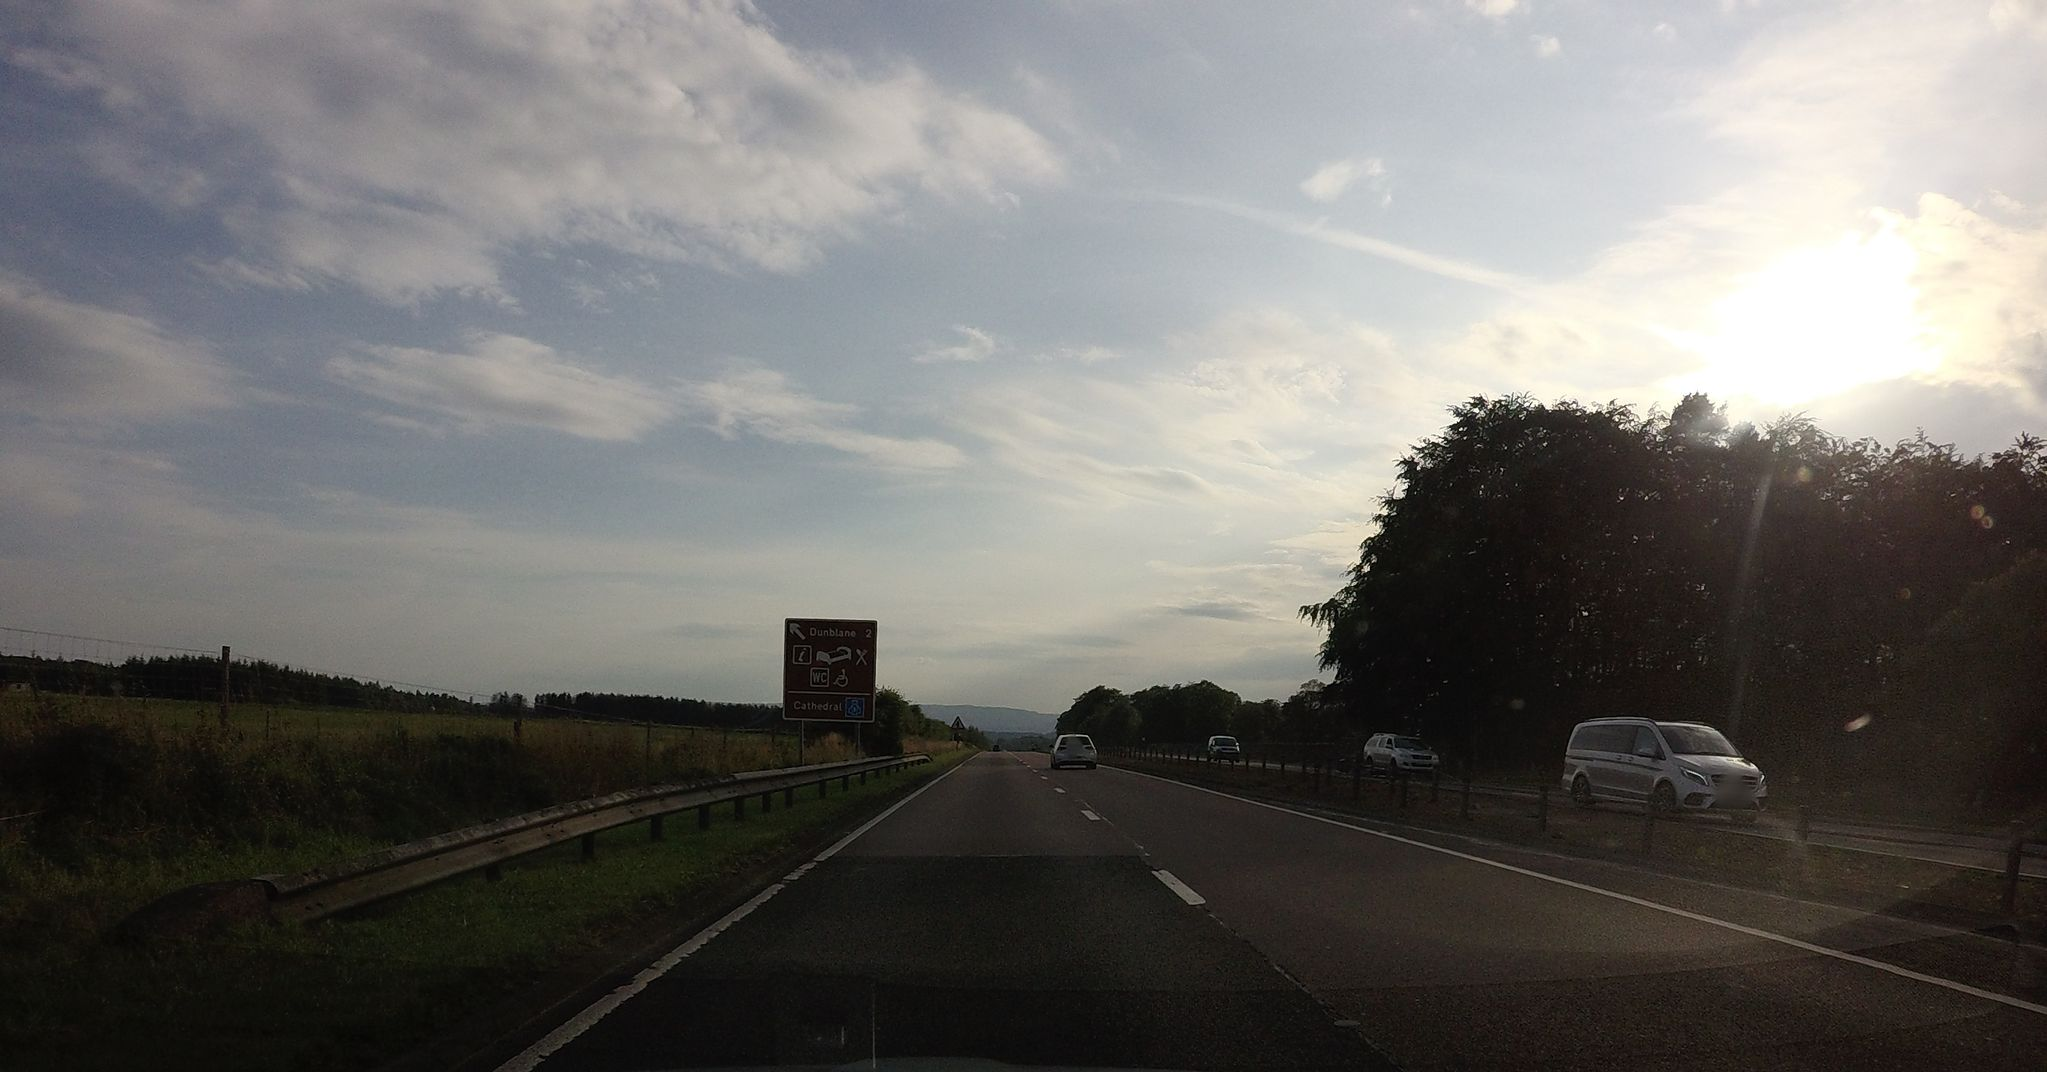car: (1560, 716, 1768, 822), (1362, 732, 1439, 780), (1048, 734, 1097, 769), (1208, 735, 1240, 763)
